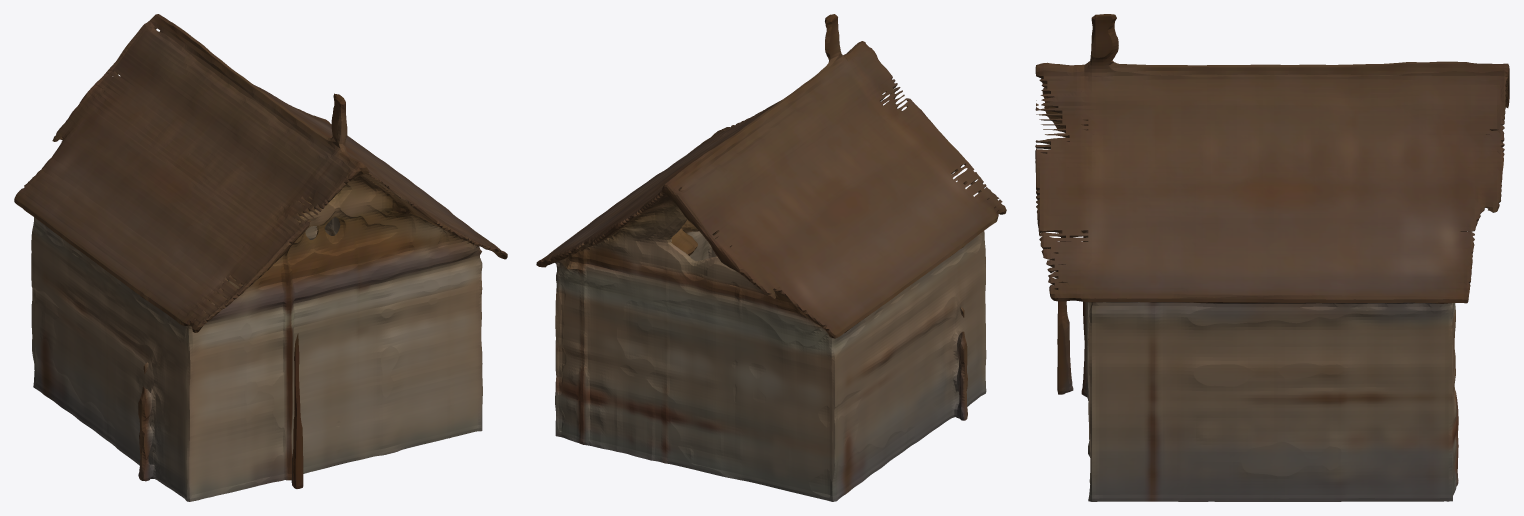
3 renders of one model, left to right at view 1: azimuth 30°, elevation 25°; view 2: azimuth 150°, elevation 25°; view 3: azimuth 270°, elevation 25°, orthographic. The views are drawn at different scales.
Visible parts, largest first — view 1: world; view 2: world; view 3: world.
Boxes of the visible parts, left/top/right/bottom form: world: left=14, top=14, right=507, bottom=501; world: left=536, top=14, right=1006, bottom=501; world: left=1035, top=14, right=1509, bottom=501.
Size of the model in its own units: 1.75 by 1.9 by 1.98.
